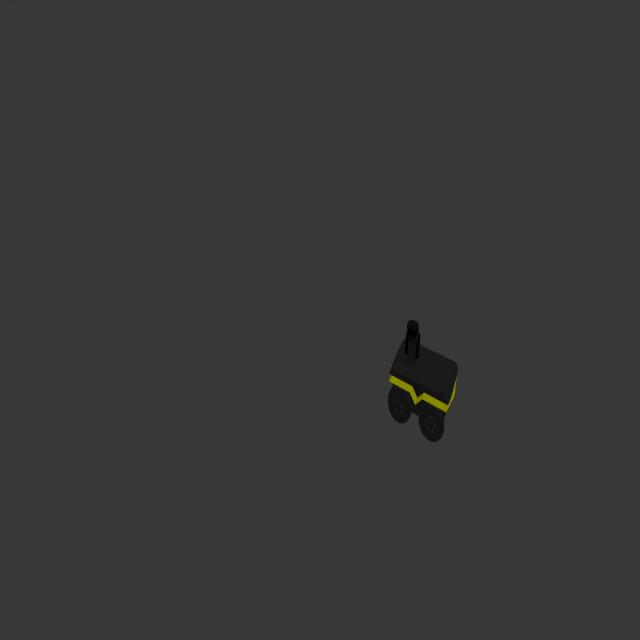jackal: (388, 317, 458, 440)
